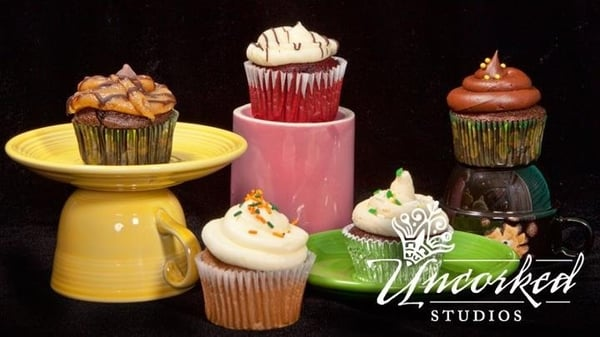pizza: (230, 102, 357, 235)
